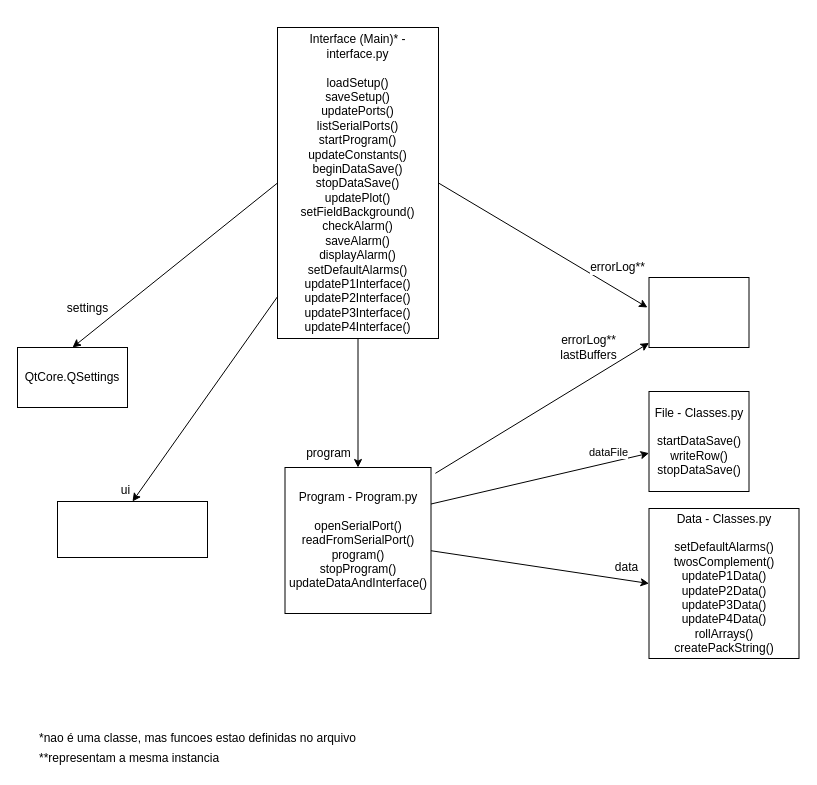
Image size: 817x785. Some labels were removed from this diagram. Here are the shapes that lost their labels. From the top down, the centre of each, then its label:
At (x=698, y=312): "Log - Classes.py writeLog()".
At (x=132, y=529): "Ui_MainWindow - interface_generated.py".
